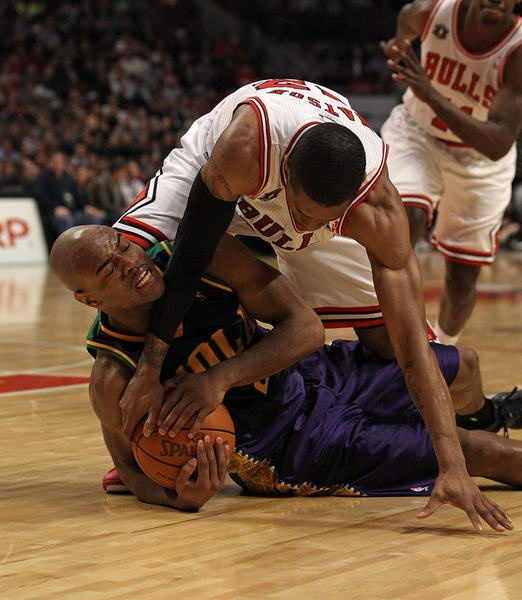falling: (57, 211, 510, 518)
